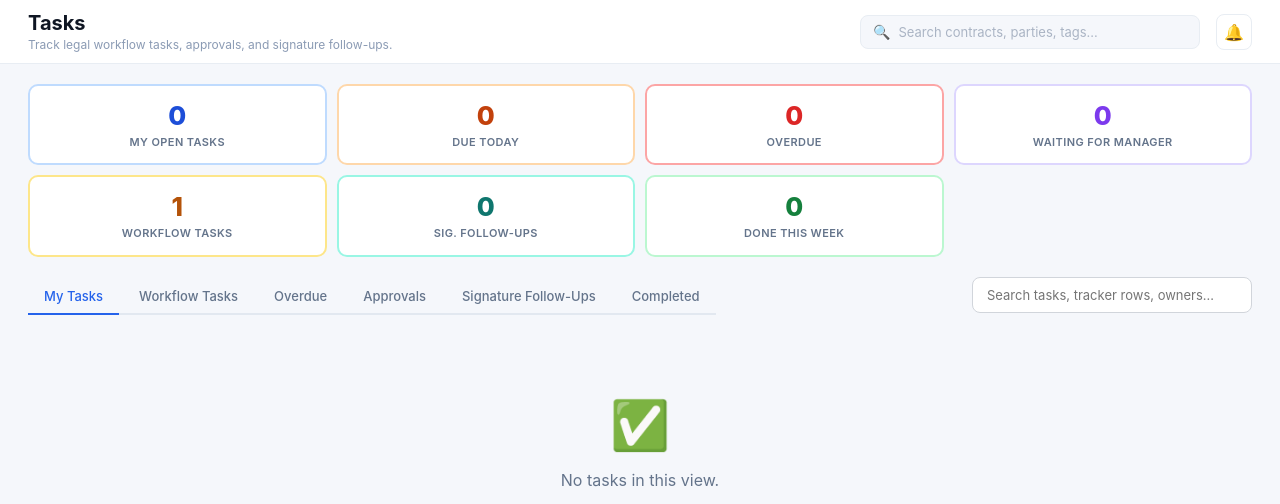
Test case: (dc-2) Workflow Tasks includes unassigned tracker items
What coordinates should you click on to do the following:
click the button "Workflow Tasks"
I would click on:
 (189, 297)
Its box is [123,279,254,315].
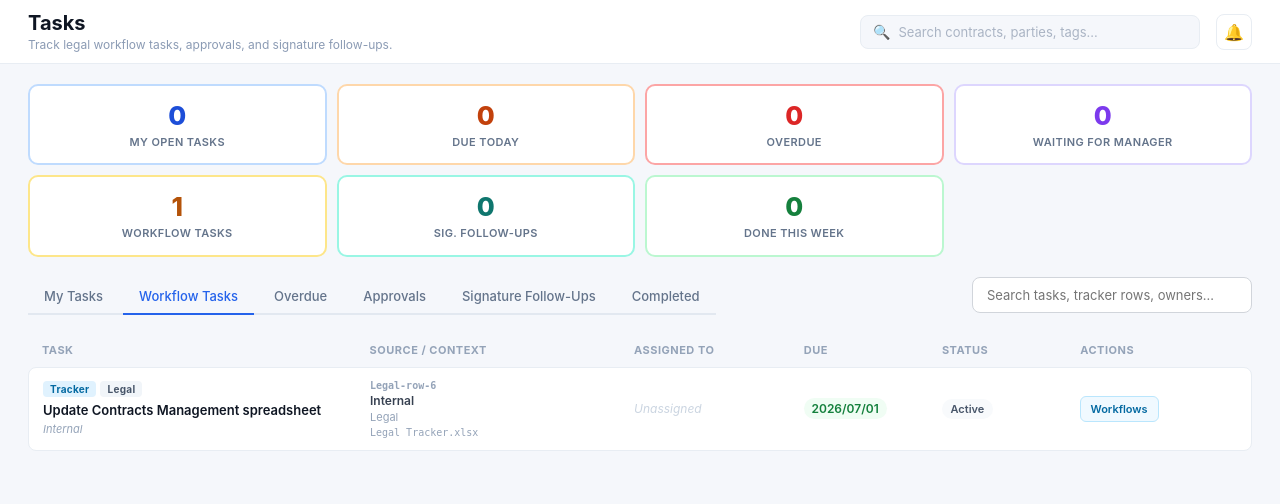
expect the text "Unassigned" is shown: met, box [634,401,702,416]
expect the text "Update Contracts Management spreadsheet" is shown: met, box [43,402,358,419]
